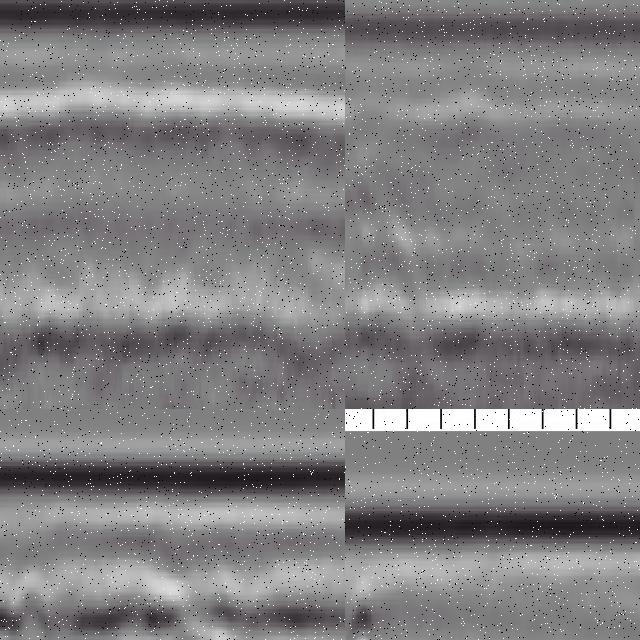crack: (346, 568, 388, 640)
